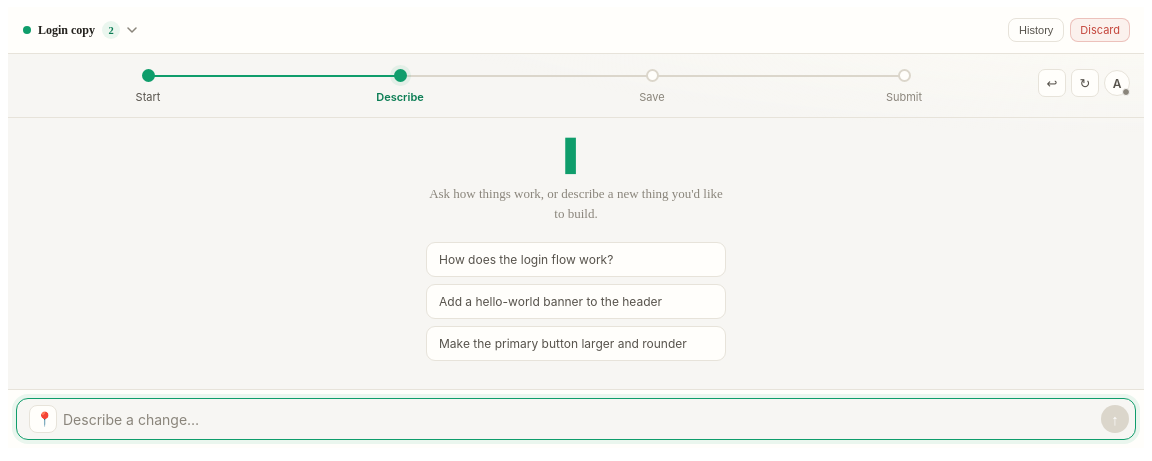
Test: Panel › change switcher › switching loads that change's own conversation
Click the button with aria-label "your changes — login copy". click: (67, 30)
box: [16,16,792,44]
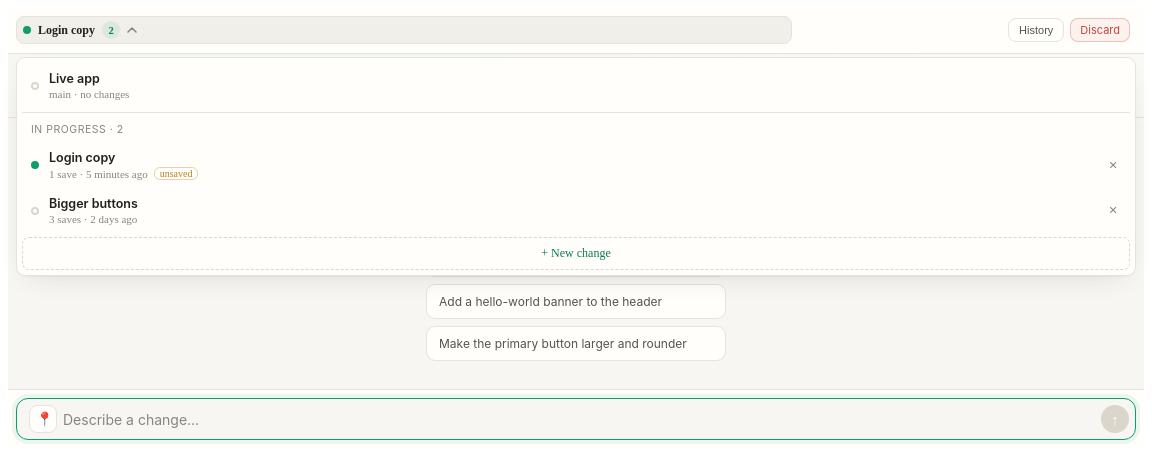
Click the menu item "Bigger buttons 3 saves · 2 days ago". click: (93, 204)
box: [22,188,1100,233]
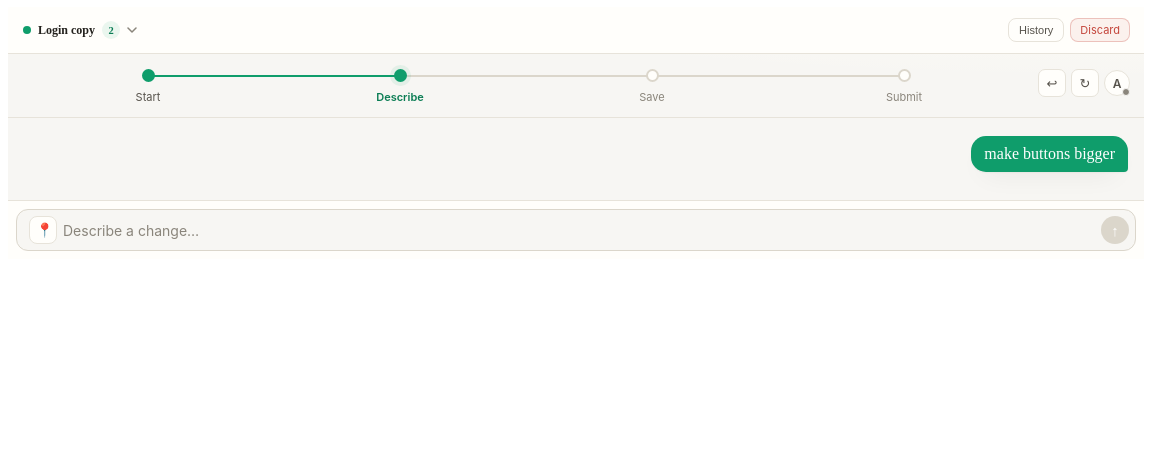
Expected: the text "make buttons bigger" is shown, [971,136,1128,172]
